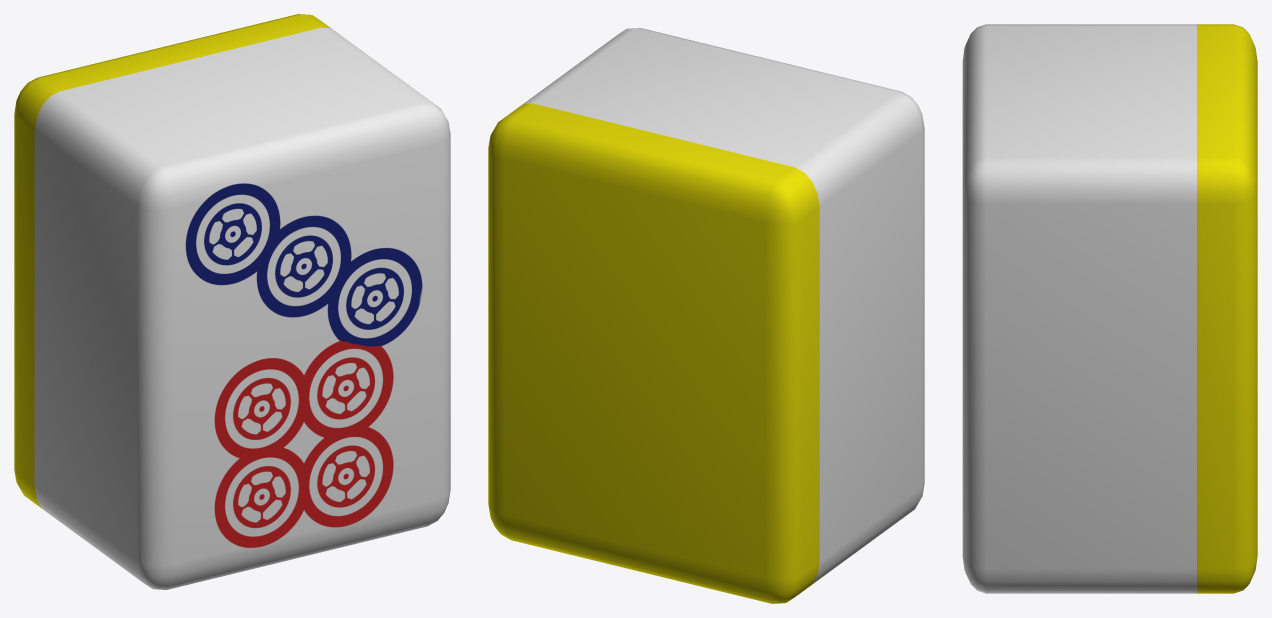
File: pinzu7.glb
The picture shows the model from 3 angles, left to right: view 1: azimuth 30°, elevation 25°; view 2: azimuth 150°, elevation 25°; view 3: azimuth 270°, elevation 25°; orthographic projection. The views are drawn at different scales.
Visible parts, largest first — view 1: Cube, Cube.001; view 2: Cube; view 3: Cube.
Boxes of the visible parts, x1,y1,x2,y2 form: Cube: (14,14,450,589); Cube.001: (185,183,422,547); Cube: (488,28,924,603); Cube: (962,24,1257,593).
Size of the model in its own units: 2 by 2.6 by 1.6.
Materials: 3 (1 with a texture image).
